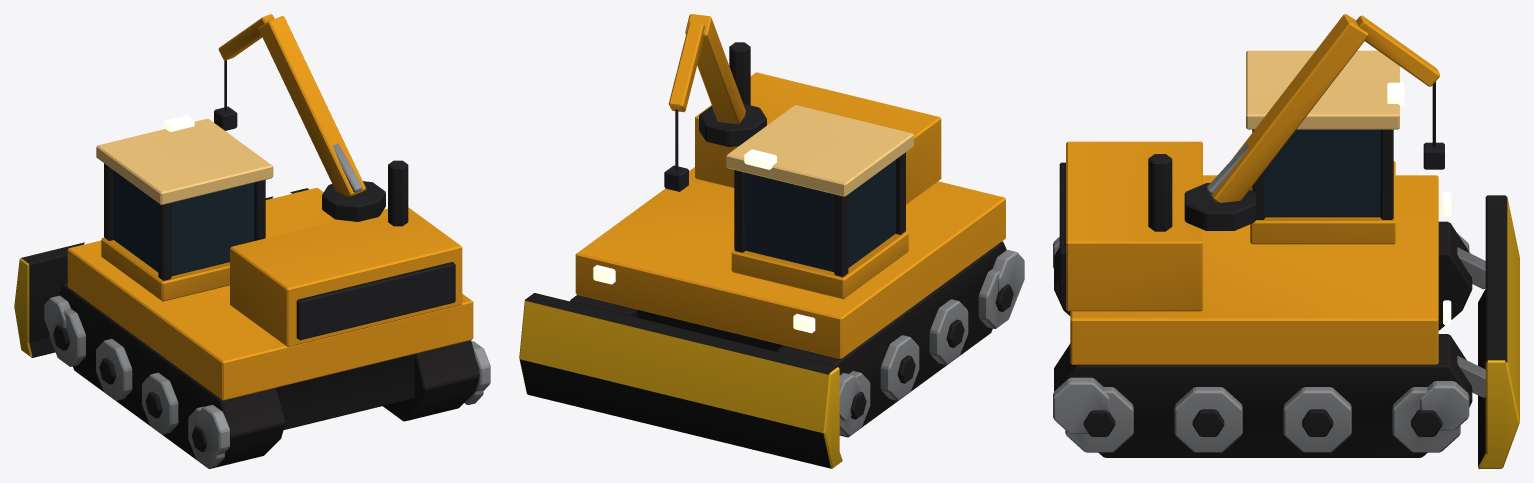
The model's file is constructor.glb.
The picture shows the model from 3 angles, left to right: view 1: azimuth 30°, elevation 25°; view 2: azimuth 150°, elevation 25°; view 3: azimuth 270°, elevation 25°; orthographic projection. The views are drawn at different scales.
Parts seen in each view (by area): view 1: constructor; view 2: constructor; view 3: constructor.
Part boxes in pixels (<box>): constructor: <box>14,14,490,468</box>; constructor: <box>519,14,1024,468</box>; constructor: <box>1053,14,1519,468</box>.
Bounding box in the file's own units: 0.92 × 1.02 × 1.09.
